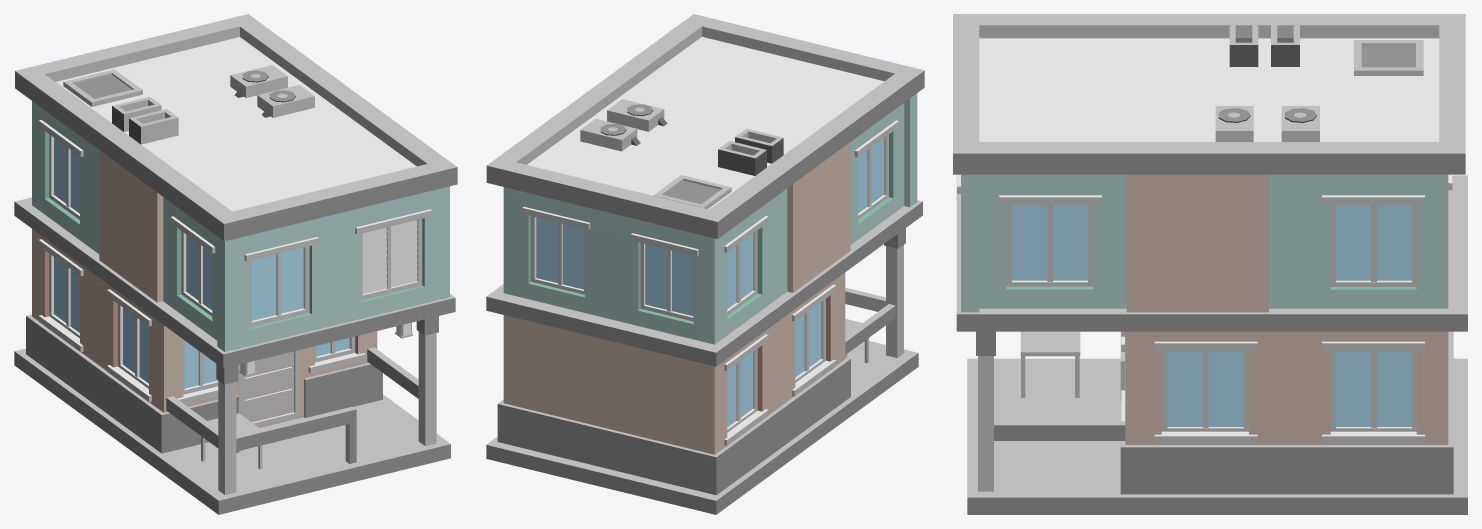
File: house_small_1_005.fbx
The picture shows the model from 3 angles, left to right: view 1: azimuth 30°, elevation 25°; view 2: azimuth 150°, elevation 25°; view 3: azimuth 270°, elevation 25°; orthographic projection. The views are drawn at different scales.
Visible parts, largest first — view 1: house_small_1_005; view 2: house_small_1_005; view 3: house_small_1_005.
Part boxes in pixels (x1,y1,x2,y2): house_small_1_005: [14, 14, 457, 514]; house_small_1_005: [486, 14, 924, 514]; house_small_1_005: [953, 14, 1467, 514].
Bounding box in the file's own units: 503 × 623 × 784.
